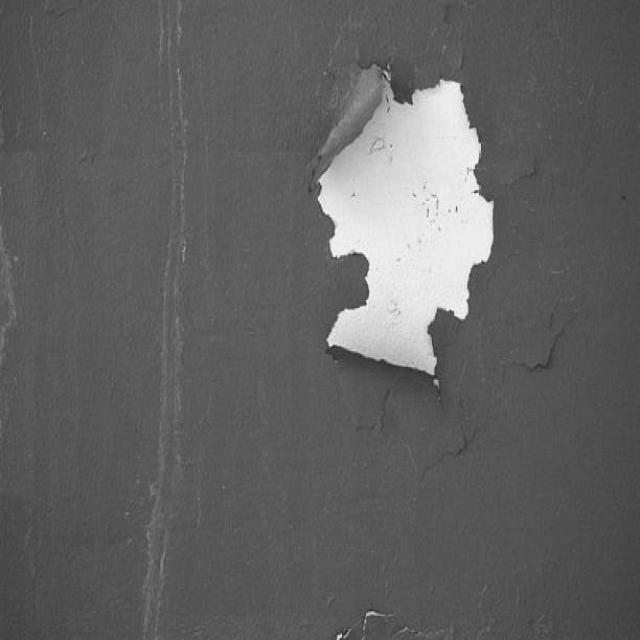peeling paint: (285, 0, 582, 640)
